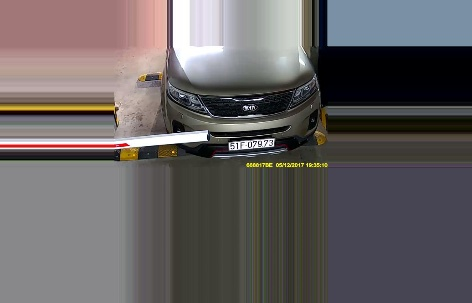plate: (225, 134, 277, 154)
